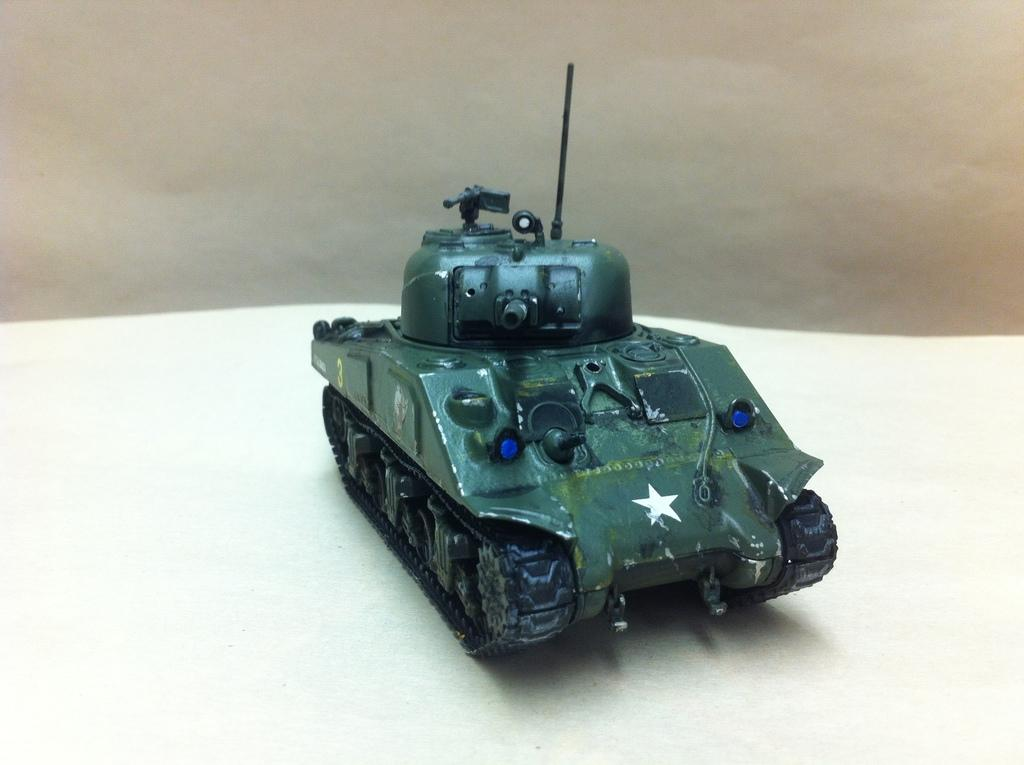Tank: (311, 62, 839, 659)
